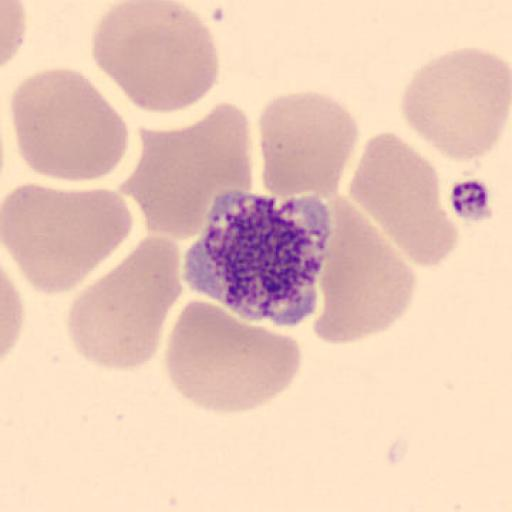Platelet: (180, 186, 332, 326)
RBC: (124, 102, 254, 242), (164, 297, 306, 415), (309, 196, 418, 346), (67, 236, 182, 372), (348, 130, 460, 268), (1, 182, 134, 296), (91, 0, 220, 116), (9, 66, 130, 184), (399, 46, 512, 163), (258, 89, 362, 203), (121, 130, 217, 240), (0, 266, 26, 366), (0, 0, 27, 71)
